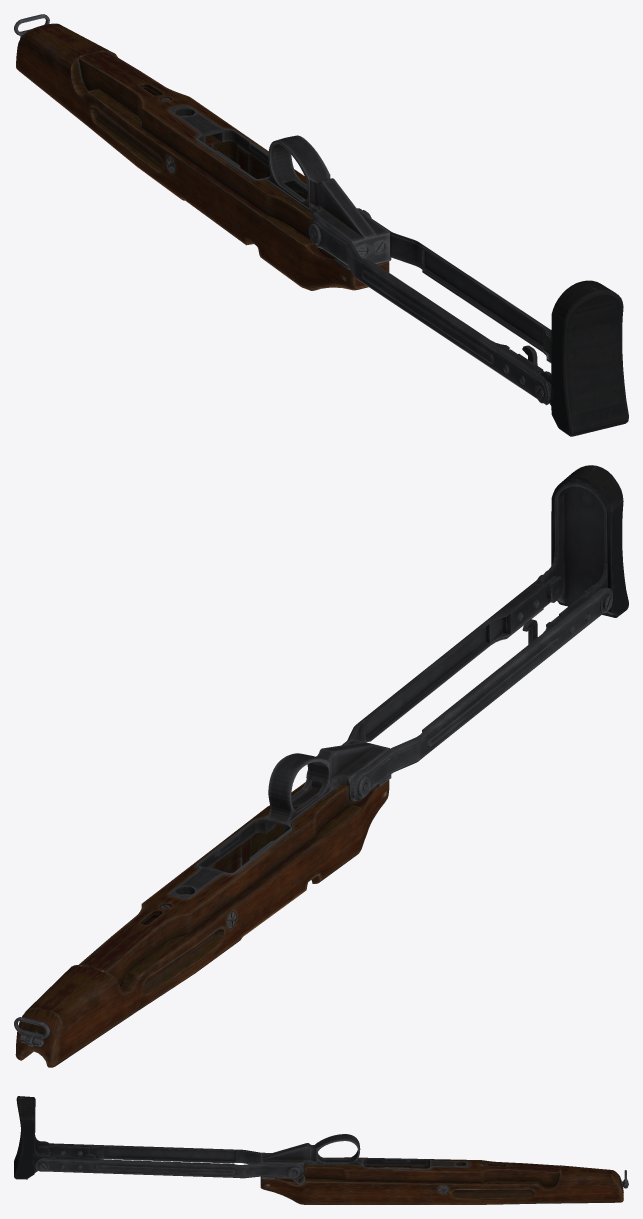
3 views of the same model, one above another, from view 1: azimuth 30°, elevation 25°; view 2: azimuth 150°, elevation 25°; view 3: azimuth 270°, elevation 25° (orthographic). The views are drawn at different scales.
Visible parts, largest first — view 1: TW_5a38ef1fc4a282000b1521f6_PZ_Import; view 2: TW_5a38ef1fc4a282000b1521f6_PZ_Import; view 3: TW_5a38ef1fc4a282000b1521f6_PZ_Import.
Boxes of the visible parts, x1,y1,x2,y2 form: TW_5a38ef1fc4a282000b1521f6_PZ_Import: [14, 14, 628, 436]; TW_5a38ef1fc4a282000b1521f6_PZ_Import: [14, 465, 628, 1067]; TW_5a38ef1fc4a282000b1521f6_PZ_Import: [14, 1096, 628, 1204].
Size of the model in its own units: 0.0299 by 0.4195 by 0.0759.
1 material, 1 textured.
